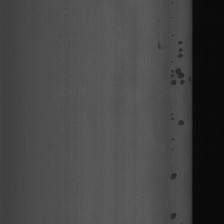oil_spot: (169, 61, 187, 92), (168, 106, 177, 154), (156, 18, 164, 56), (175, 32, 185, 59), (169, 2, 175, 43), (169, 165, 178, 188), (169, 206, 176, 224), (178, 119, 185, 129)
